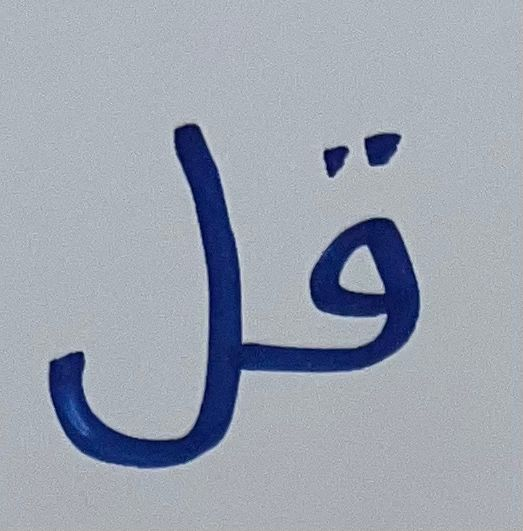lam: (26, 82, 256, 476)
qaf: (262, 111, 450, 412)
